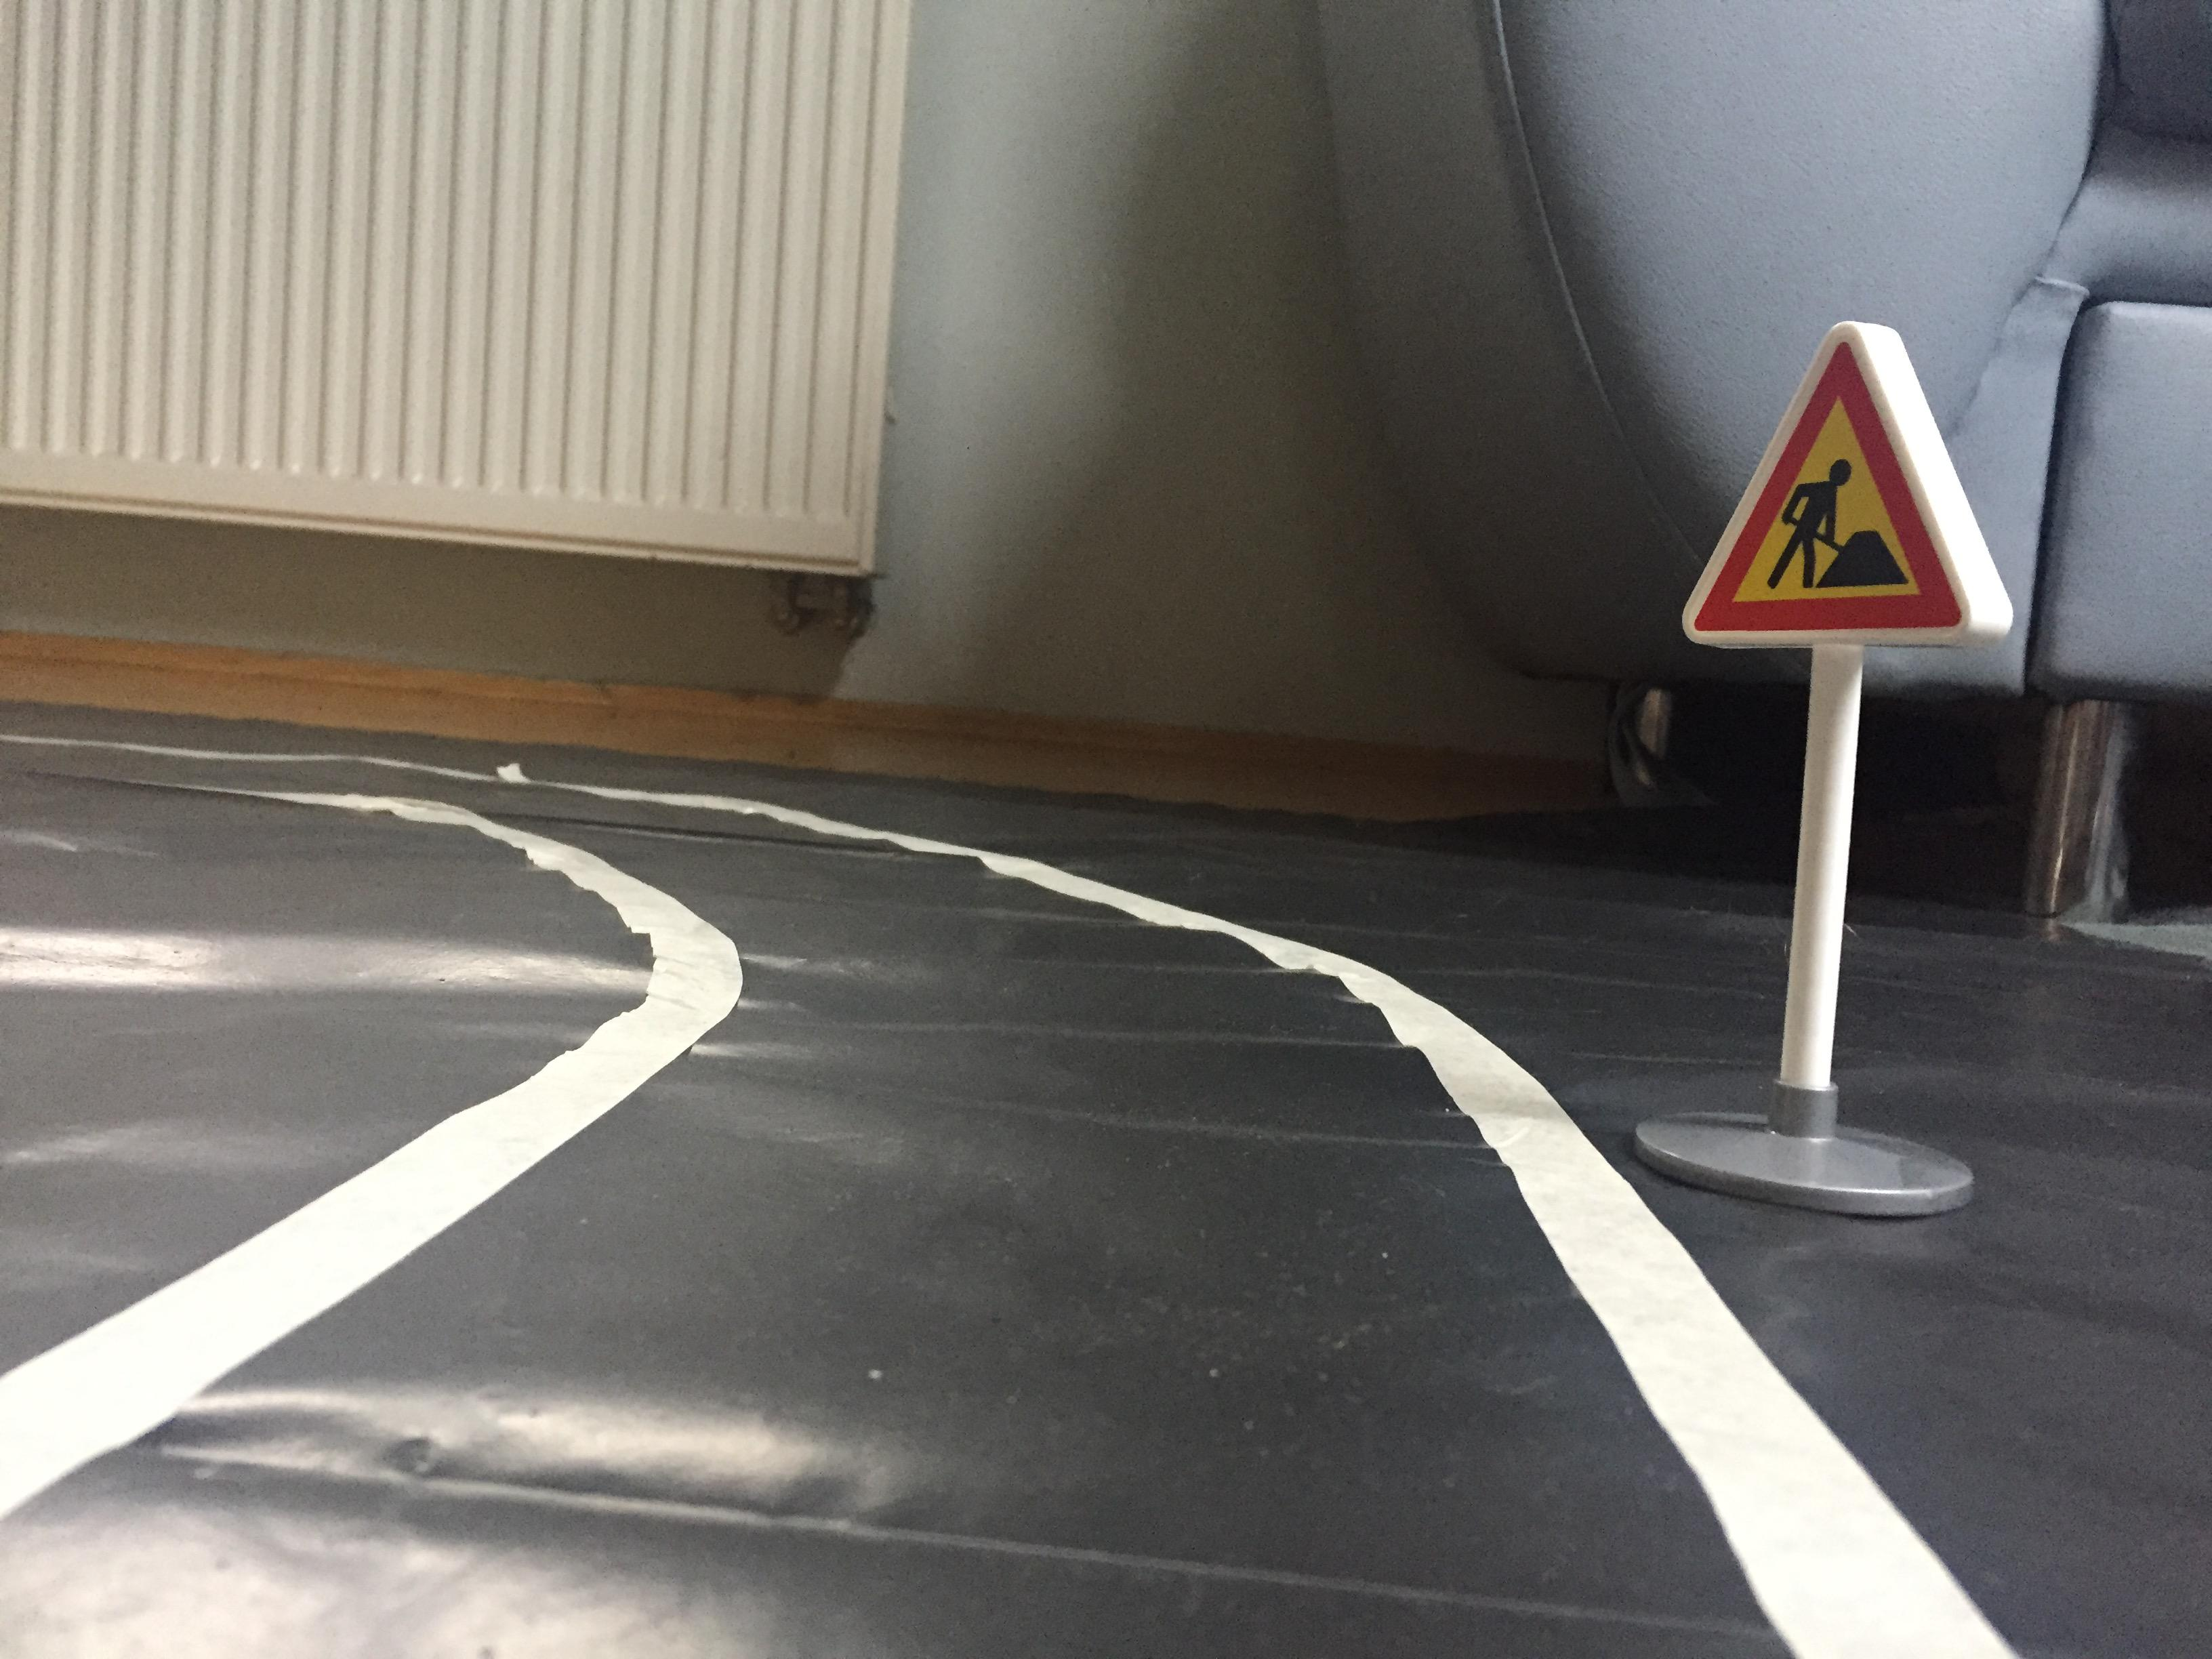work: (1665, 310, 2026, 666)
